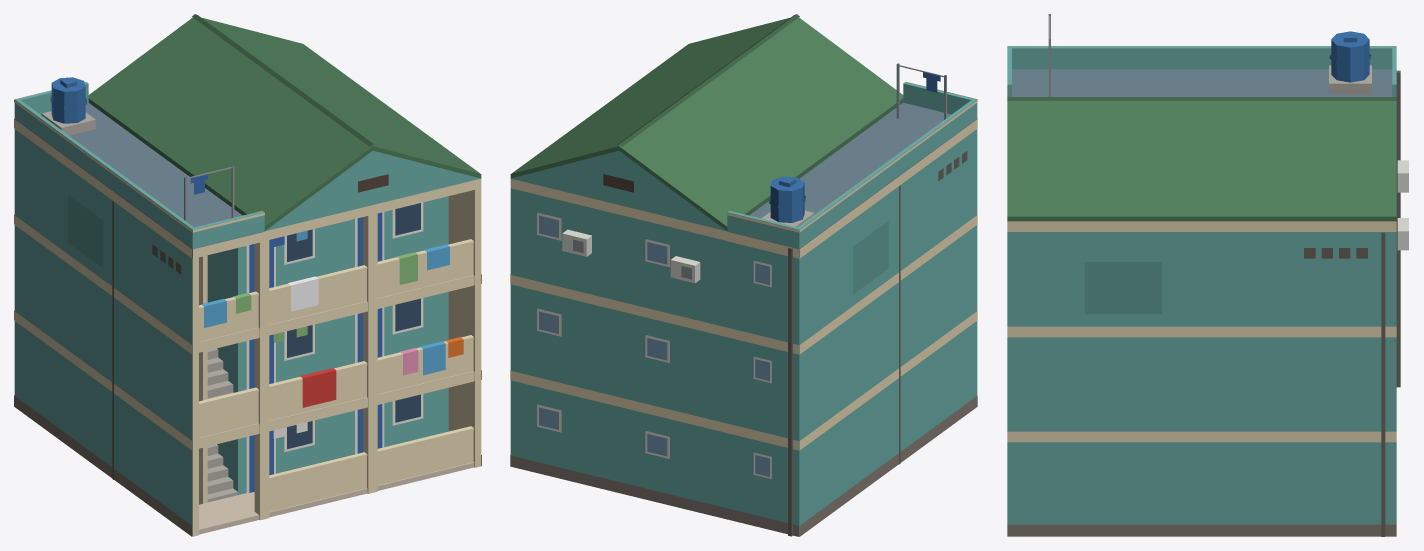
File: kos_08.glb
The picture shows the model from 3 angles, left to right: view 1: azimuth 30°, elevation 25°; view 2: azimuth 150°, elevation 25°; view 3: azimuth 270°, elevation 25°; orthographic projection. The views are drawn at different scales.
Parts seen in each view (by area): view 1: kos_08; view 2: kos_08; view 3: kos_08.
Part boxes in pixels (x1,y1,x2,y2): kos_08: [14, 14, 481, 536]; kos_08: [510, 14, 977, 536]; kos_08: [1007, 14, 1408, 536].
Size of the model in its own units: 9.51 by 10.9 by 10.44.
